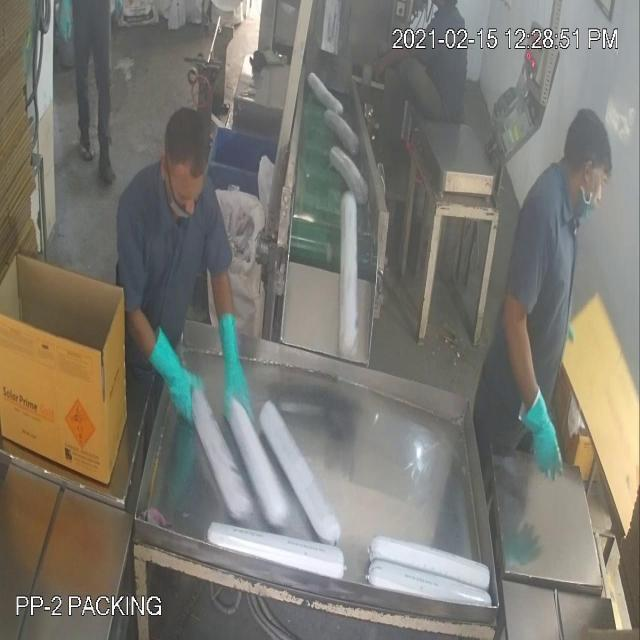Gloves: (48, 122, 546, 422)
